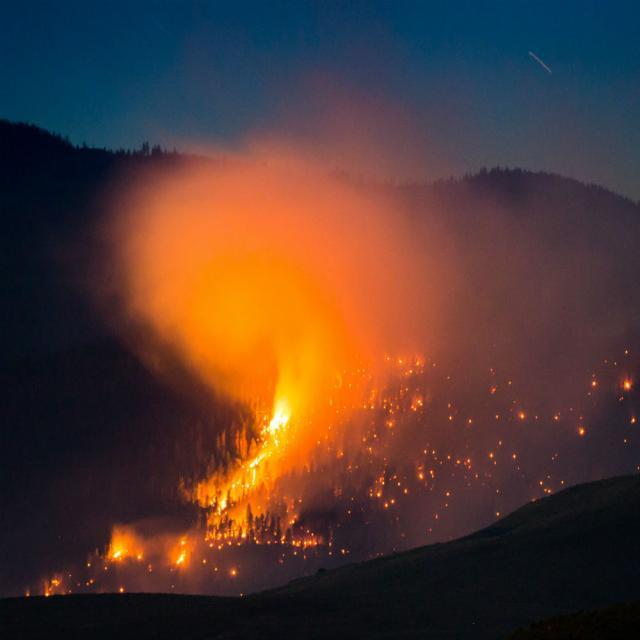Fire: (216, 398, 300, 512), (211, 521, 325, 552), (100, 530, 151, 580), (166, 530, 205, 578), (40, 570, 64, 598)
Smoke: (134, 120, 626, 406)
